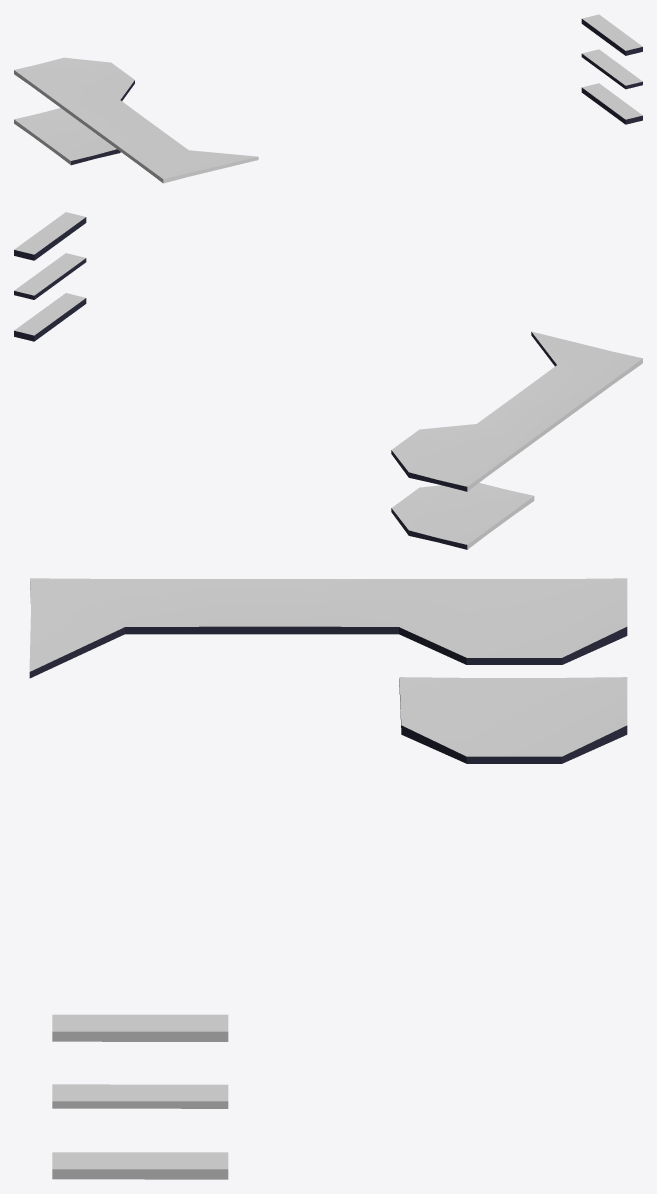
File: SHELF.glb
The picture shows the model from 3 angles, top to bottom: view 1: azimuth 30°, elevation 25°; view 2: azimuth 150°, elevation 25°; view 3: azimuth 270°, elevation 25°; orthographic projection. The views are drawn at different scales.
Parts seen in each view (by area): view 1: SHELF; view 2: SHELF; view 3: SHELF.
Part boxes in pixels (bbox=[...]): SHELF: bbox=[14, 14, 642, 183]; SHELF: bbox=[14, 212, 642, 549]; SHELF: bbox=[29, 578, 627, 1179].
Bounding box in the file's own units: 9.98 × 1.45 × 5.32.
